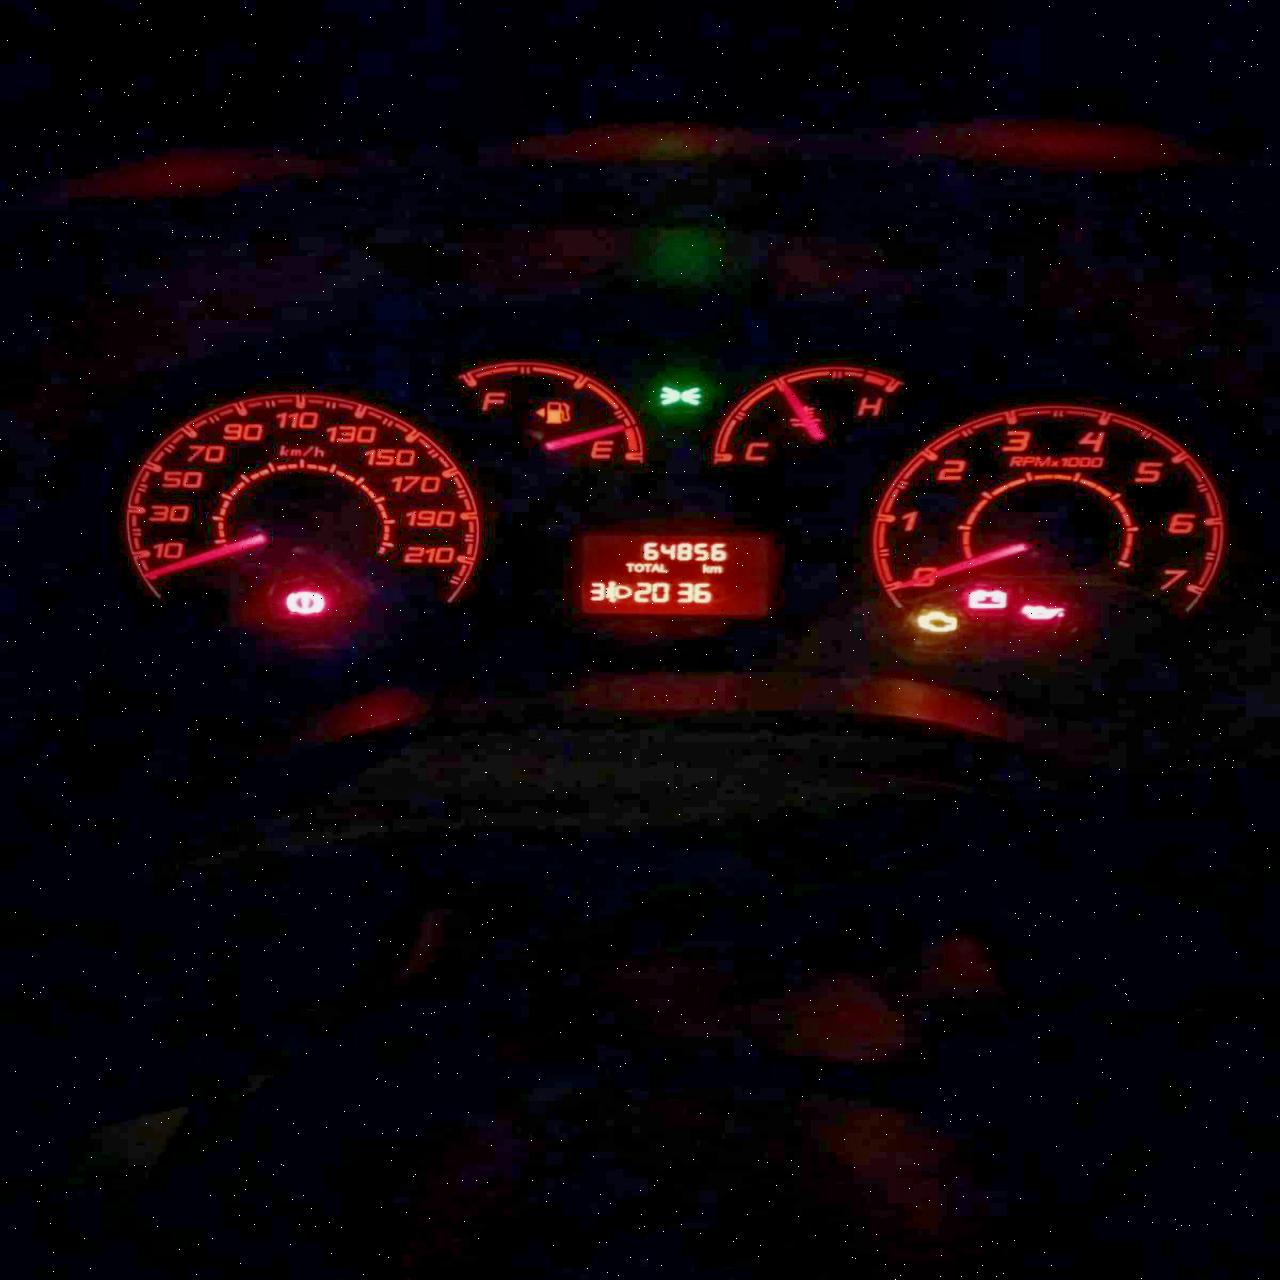0: (651, 581, 670, 602)
2: (632, 580, 651, 604)
3: (675, 581, 692, 604), (587, 580, 604, 601)
4: (658, 543, 675, 560)
5: (693, 542, 708, 560)
6: (693, 581, 712, 602), (709, 543, 728, 561), (641, 542, 658, 560)
8: (675, 542, 692, 560)
X: (707, 564, 723, 574), (659, 563, 669, 573), (633, 561, 644, 572), (649, 563, 659, 573), (642, 563, 652, 573), (625, 561, 634, 572), (701, 563, 709, 573)
odometer: (581, 535, 764, 613)
